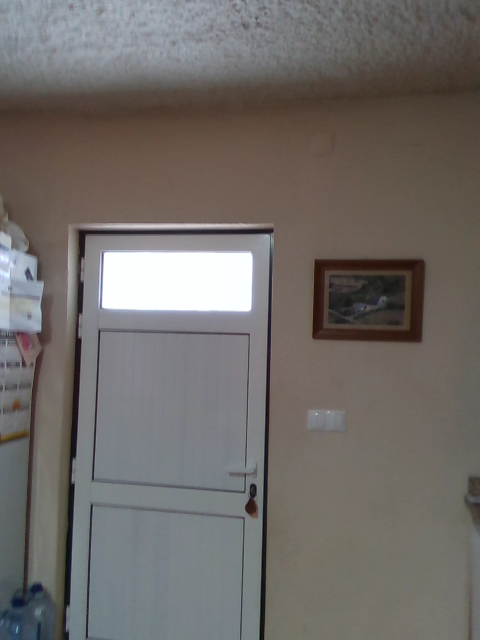closed: (57, 228, 279, 639)
